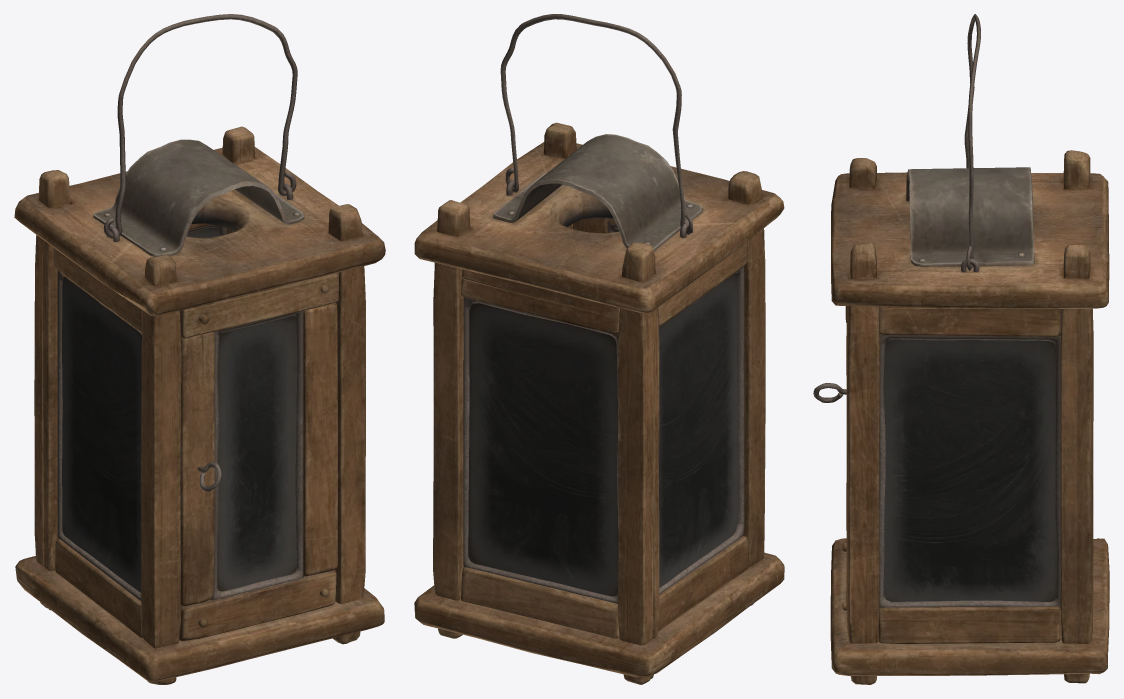
The model's file is wooden_lantern_01.glb.
3 renders of one model, left to right at view 1: azimuth 30°, elevation 25°; view 2: azimuth 150°, elevation 25°; view 3: azimuth 270°, elevation 25°, orthographic.
Visible parts, largest first — view 1: wooden_lantern_01, wooden_lantern_01_door, wooden_lantern_01_handle; view 2: wooden_lantern_01, wooden_lantern_01_handle, wooden_lantern_01_door; view 3: wooden_lantern_01, wooden_lantern_01_handle, wooden_lantern_01_door.
Part boxes in pixels (bbox=[...]): wooden_lantern_01: bbox=[14, 126, 385, 684]; wooden_lantern_01_door: bbox=[179, 272, 339, 641]; wooden_lantern_01_handle: bbox=[103, 14, 297, 238]; wooden_lantern_01: bbox=[414, 122, 784, 684]; wooden_lantern_01_handle: bbox=[500, 14, 692, 234]; wooden_lantern_01_door: bbox=[573, 217, 618, 233]; wooden_lantern_01: bbox=[830, 150, 1109, 684]; wooden_lantern_01_handle: bbox=[964, 14, 980, 270]; wooden_lantern_01_door: bbox=[813, 306, 847, 610].
Size of the model in its own units: 0.221 by 0.5301 by 0.2347.
2 materials, 2 textured.
